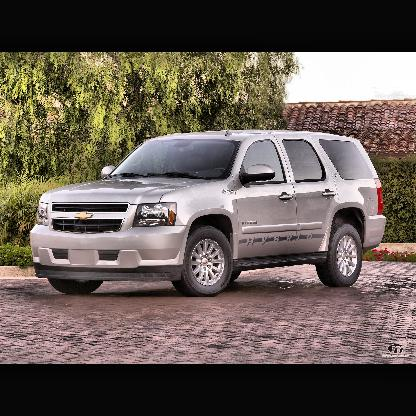Chevrolet Tahoe Hybrid SUV 2012: (29, 126, 388, 298)
